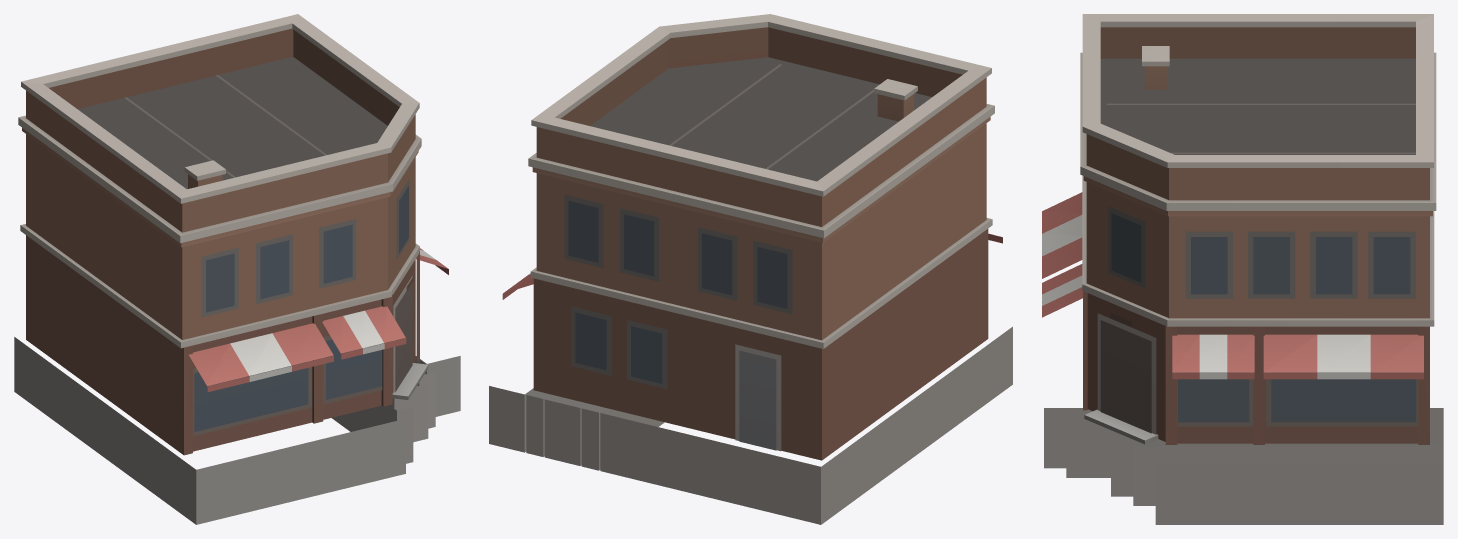
The model's file is corner.lod2.glb.
The picture shows the model from 3 angles, left to right: view 1: azimuth 30°, elevation 25°; view 2: azimuth 150°, elevation 25°; view 3: azimuth 270°, elevation 25°; orthographic projection. The views are drawn at different scales.
Bounding box in the file's own units: 8.96 × 8.5 × 9.02.
